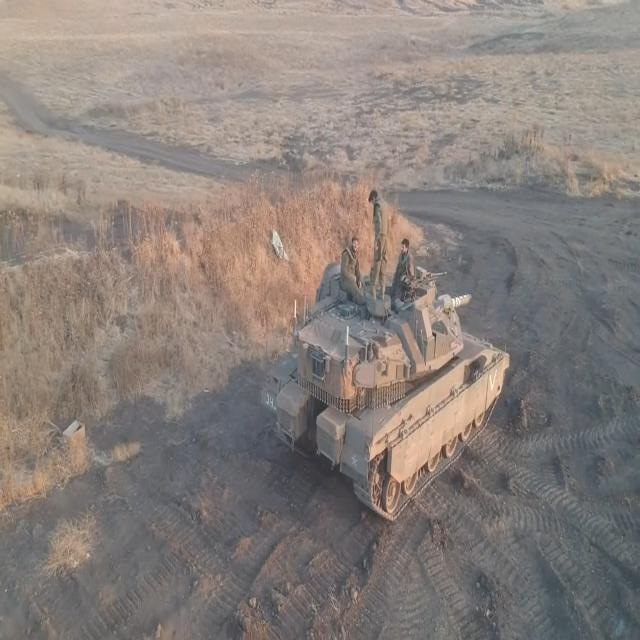tank: (252, 271, 525, 544)
